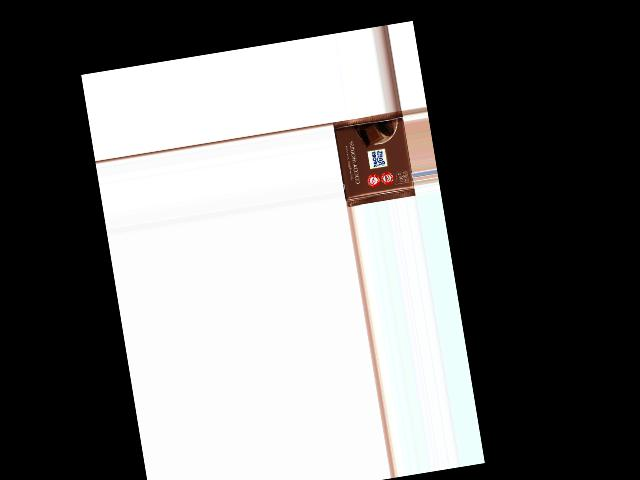chocolate: (332, 110, 415, 206)
